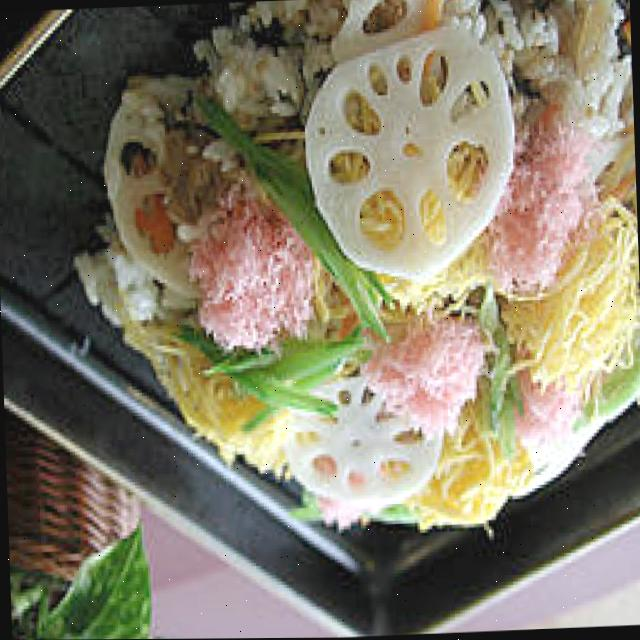寿司卷物: (63, 0, 640, 559)
